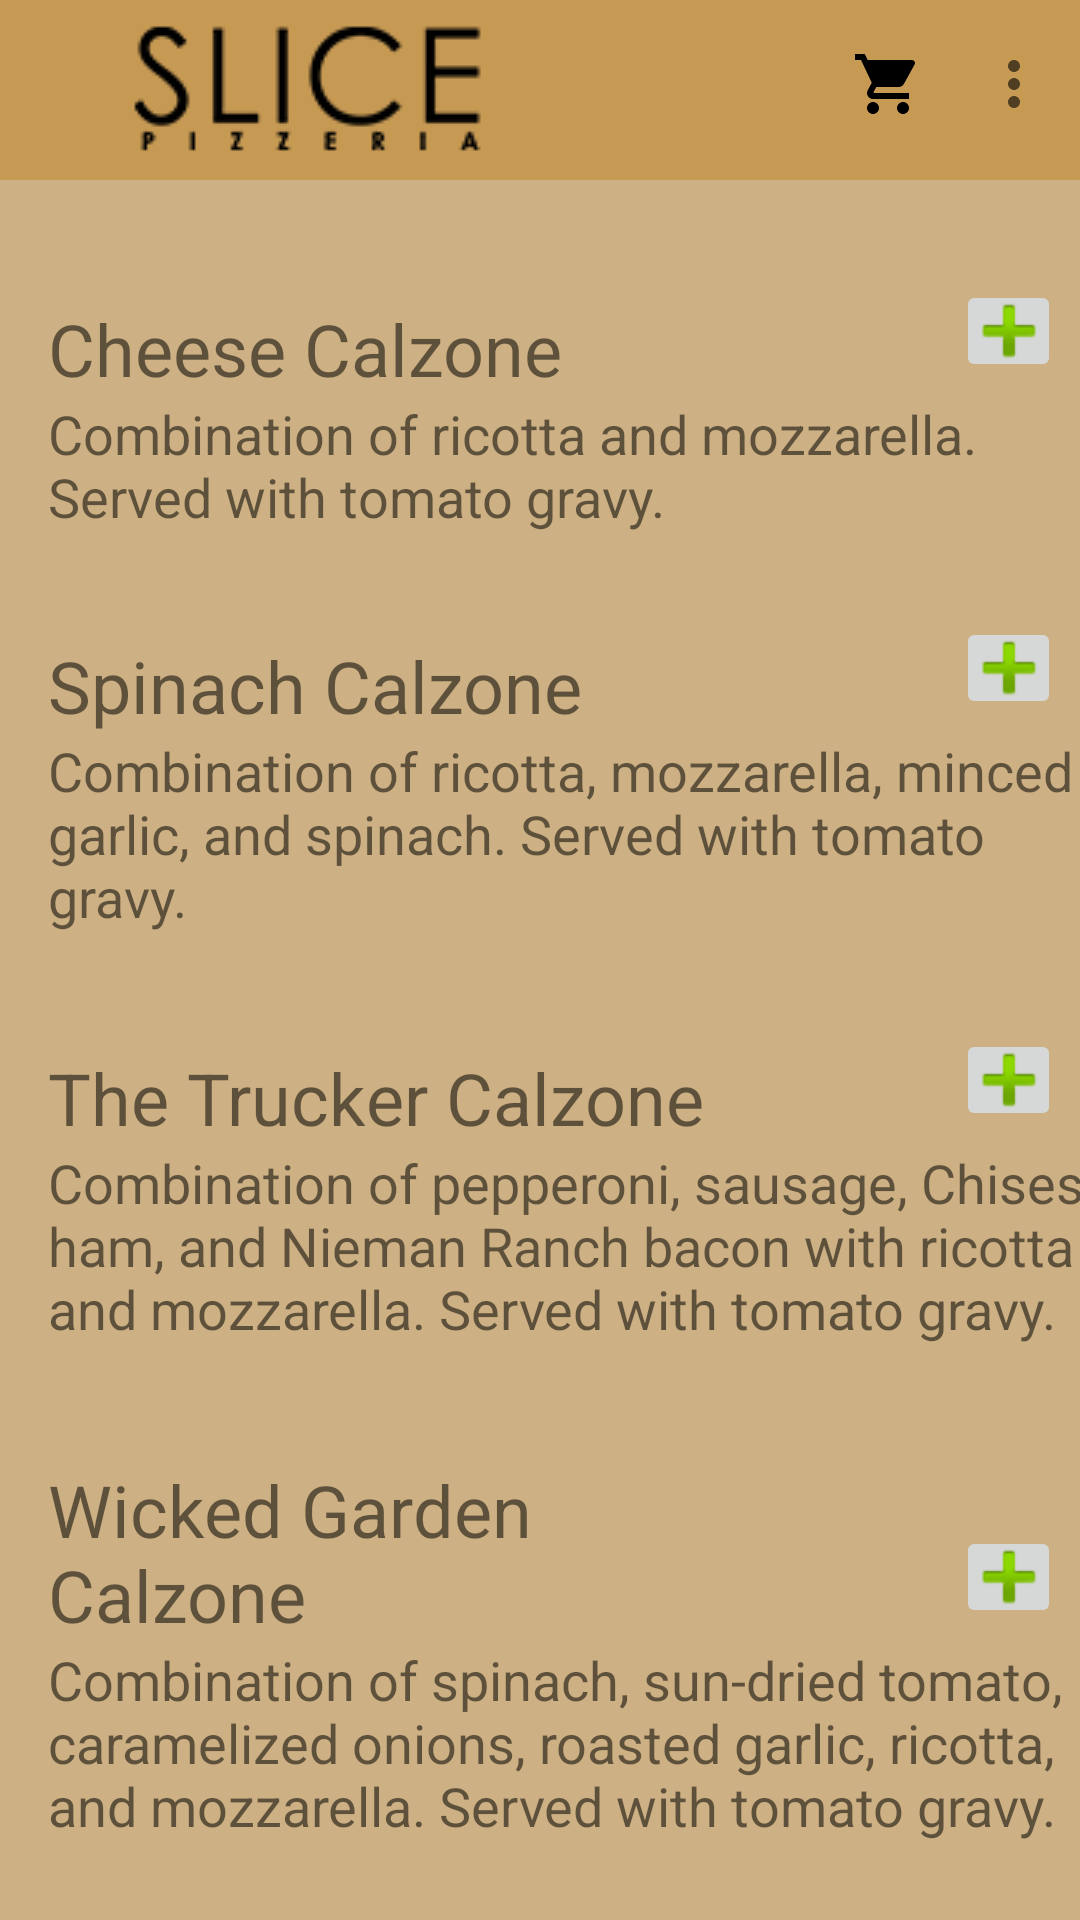

Screen size 1080 x 1920. Icon name, then its box in pixels as (x1, y1, x2, y2):
add: (968, 298, 1049, 364), (968, 635, 1049, 701), (968, 1047, 1049, 1113), (968, 1544, 1049, 1610)
